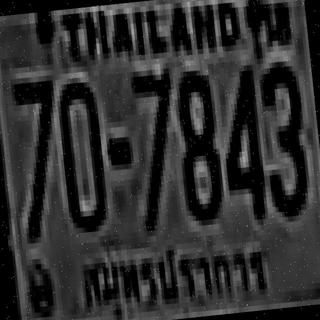N00: (55, 78, 109, 230)
N03: (257, 61, 312, 219)
N04: (216, 67, 268, 219)
N07: (10, 75, 66, 238), (129, 68, 184, 231)
N08: (172, 67, 225, 224)
P57: (72, 230, 270, 320)
